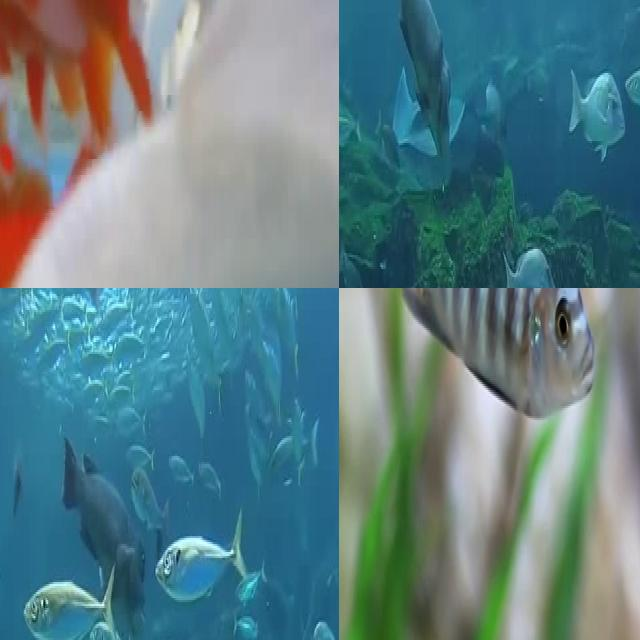fish: (0, 0, 339, 288), (495, 235, 561, 288)
